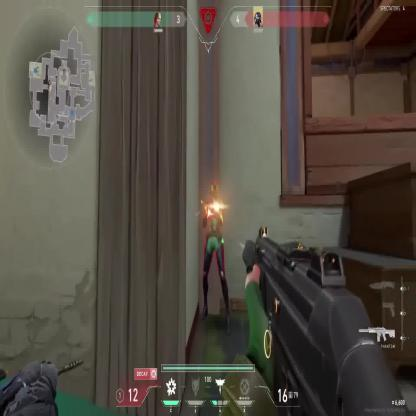enemy: (200, 178, 231, 334)
enemy_head: (210, 179, 219, 201)
